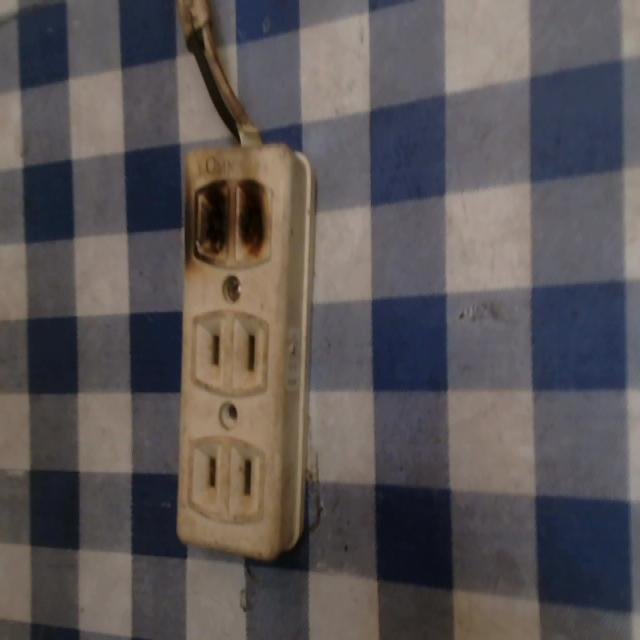-: (178, 164, 277, 265)
